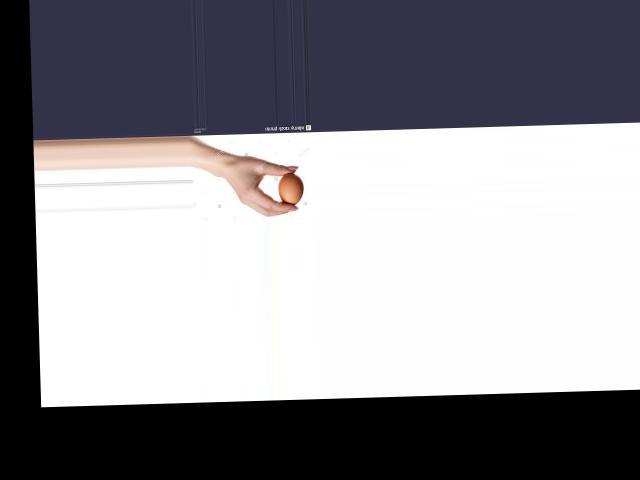egg: (276, 172, 303, 204)
